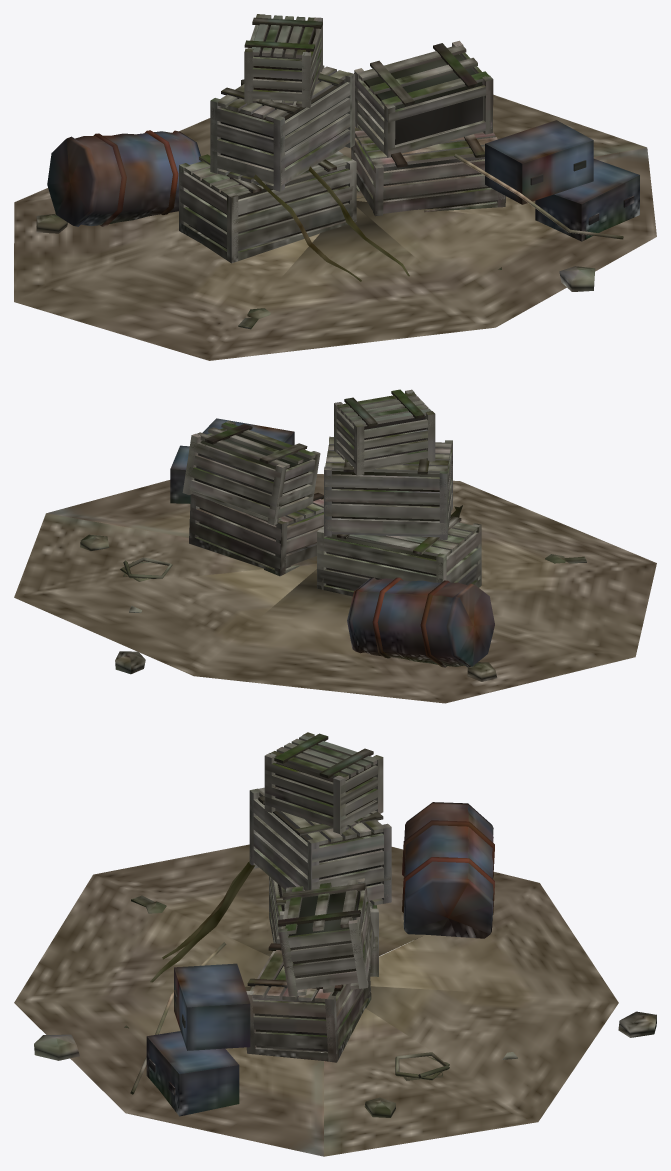
File: kit_crate_stack_live.glb
3 views of the same model, one above another, from view 1: azimuth 30°, elevation 25°; view 2: azimuth 150°, elevation 25°; view 3: azimuth 270°, elevation 25° (orthographic). The views are drawn at different scales.
Parts seen in each view (by area): view 1: body, crate_1, crate_3, crate_4, drum, crate_2, crate_7, crate_5, crate_6; view 2: body, drum, crate_4, crate_3, crate_1, crate_2, crate_5, crate_6, crate_7; view 3: body, drum, crate_3, crate_4, crate_5, crate_2, crate_7, crate_6, crate_1.
Part boxes in pixels (<box>): body: <box>14,79,656,360</box>; crate_1: <box>179,151,356,263</box>; crate_3: <box>210,65,354,191</box>; crate_4: <box>354,40,493,157</box>; drum: <box>47,130,201,226</box>; crate_2: <box>351,128,505,216</box>; crate_7: <box>485,120,593,204</box>; crate_5: <box>244,14,322,107</box>; crate_6: <box>535,159,639,241</box>; body: <box>14,474,656,703</box>; drum: <box>347,577,494,667</box>; crate_4: <box>182,420,320,525</box>; crate_3: <box>324,436,452,539</box>; crate_1: <box>317,516,481,596</box>; crate_2: <box>189,492,323,576</box>; crate_5: <box>334,389,435,475</box>; crate_6: <box>170,445,190,503</box>; crate_7: <box>202,418,294,445</box>; body: <box>14,844,656,1156</box>; drum: <box>402,802,494,939</box>; crate_3: <box>249,787,391,906</box>; crate_4: <box>278,878,375,996</box>; crate_5: <box>264,732,383,834</box>; crate_2: <box>246,935,371,1062</box>; crate_7: <box>174,963,250,1050</box>; crate_6: <box>146,1031,239,1116</box>; crate_1: <box>269,876,378,976</box>.
Size of what is drawn, in the model's own units: 4.84 by 1.55 by 4.03.
Materials: 2 (2 with a texture image).
